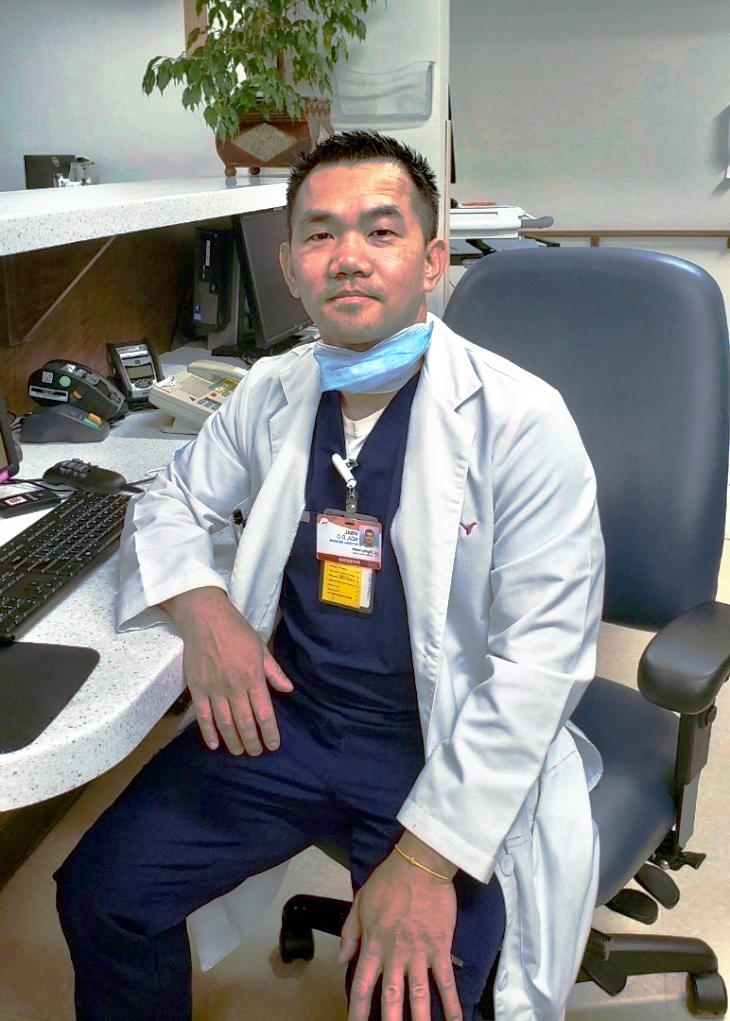mask_weared_incorrect: (282, 130, 447, 366)
